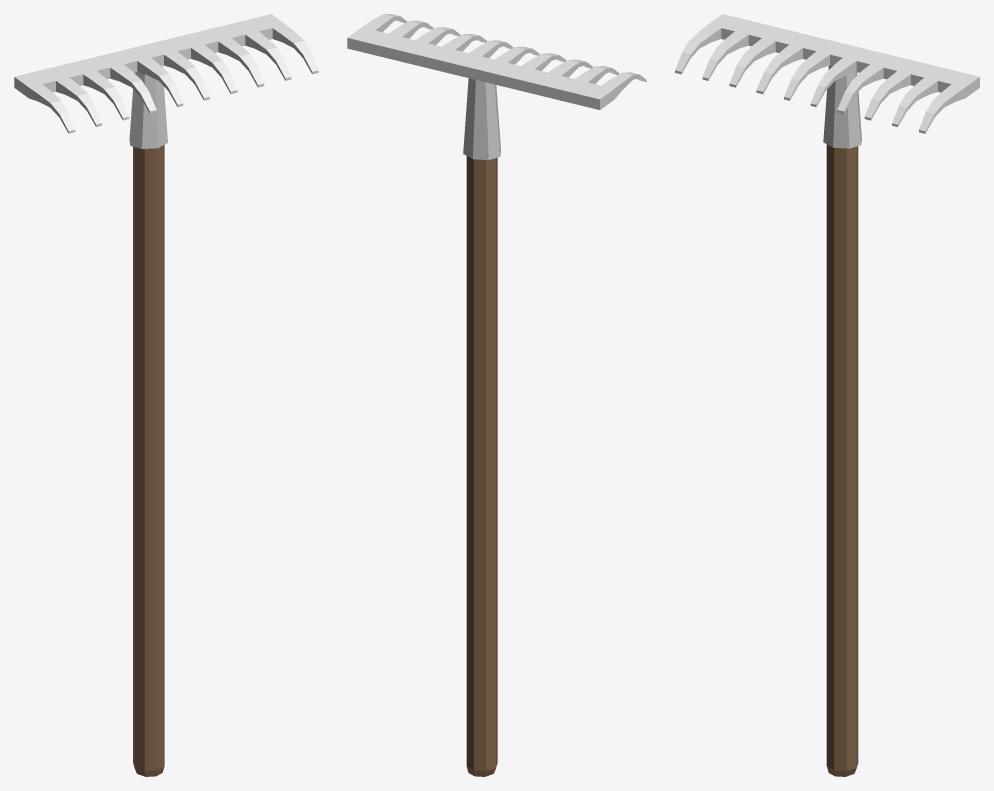
Rendered from Rake.fbx.
3 renders of one model, left to right at view 1: azimuth 30°, elevation 25°; view 2: azimuth 150°, elevation 25°; view 3: azimuth 330°, elevation 25°, orthographic.
Visible parts, largest first — view 1: RakeHead.001; view 2: RakeHead.001; view 3: RakeHead.001.
Boxes of the visible parts, x1,y1,x2,y2 form: RakeHead.001: (14, 14, 318, 776); RakeHead.001: (347, 14, 646, 776); RakeHead.001: (675, 14, 979, 776).
Bounding box in the file's own units: 93.57 × 250 × 33.45.
